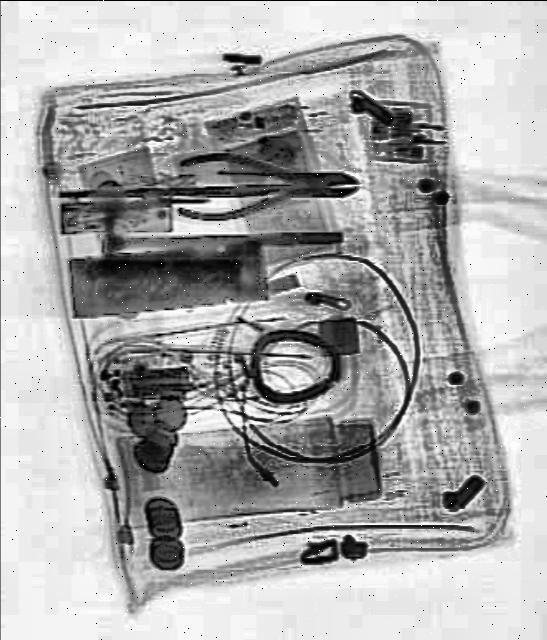Pliers: (180, 154, 362, 223)
